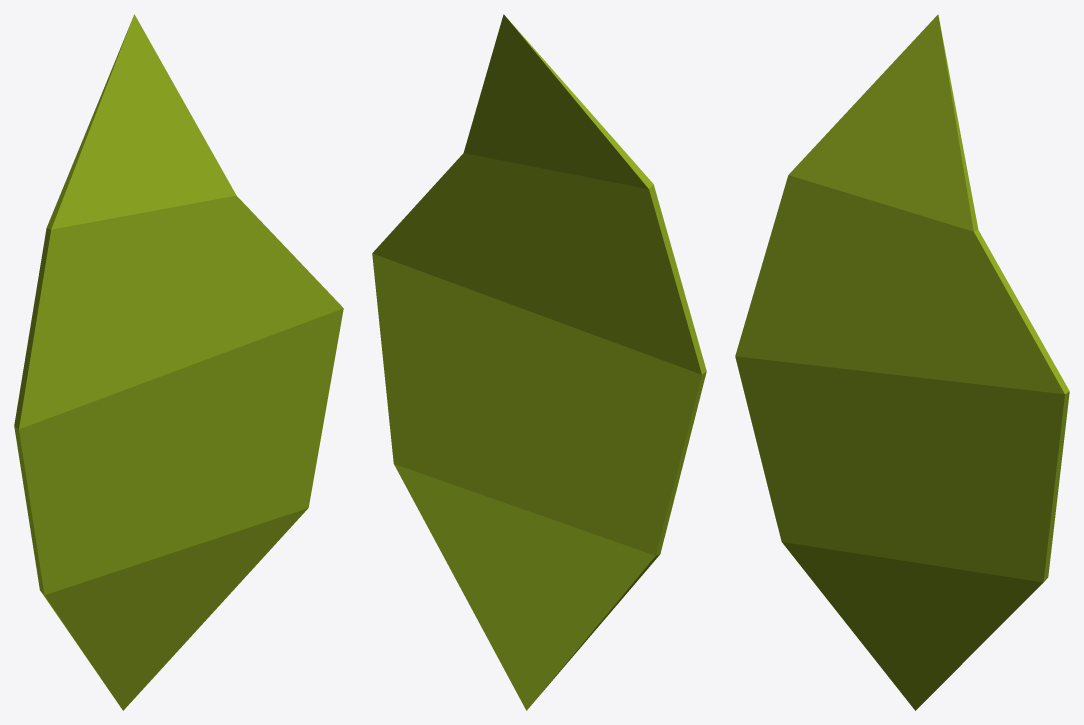
The model's file is LeaveBent_a_02.fbx.
3 views of the same model, side by side, from view 1: azimuth 30°, elevation 25°; view 2: azimuth 150°, elevation 25°; view 3: azimuth 330°, elevation 25° (orthographic).
Parts seen in each view (by area): view 1: LeaveBent_a_02_LOD0; view 2: LeaveBent_a_02_LOD0; view 3: LeaveBent_a_02_LOD0.
Part boxes in pixels (box(x1,y1,x2,y2)): LeaveBent_a_02_LOD0: box(14, 14, 343, 710); LeaveBent_a_02_LOD0: box(372, 14, 706, 710); LeaveBent_a_02_LOD0: box(735, 14, 1069, 710).
Size of what is drawn, in the model's own units: 1.84 by 3.73 by 0.4179.
